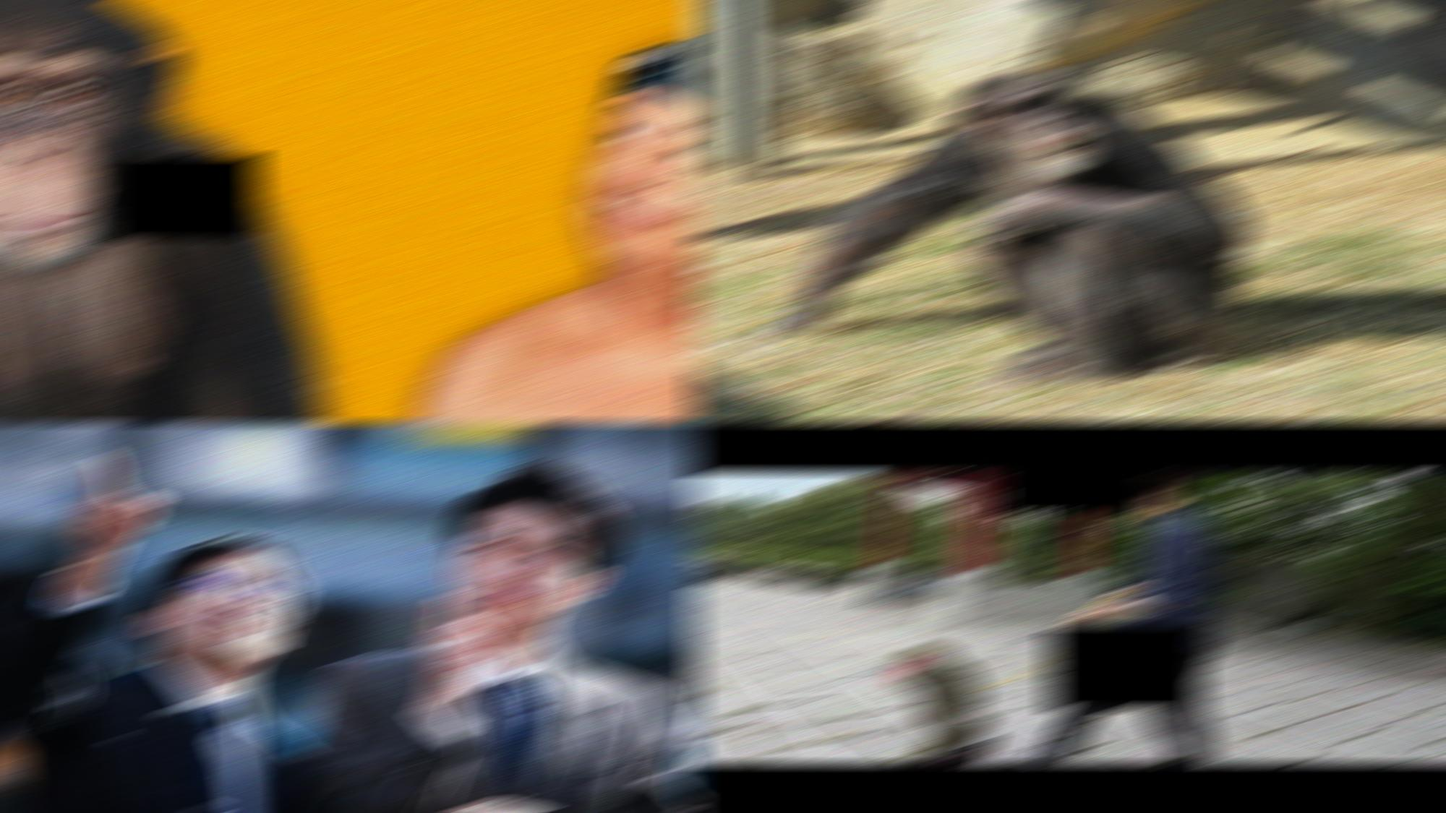Macaca fuscata: (887, 645, 1011, 764)
chimpanzee: (778, 70, 1246, 376), (0, 1, 324, 421)
human: (347, 37, 701, 421), (314, 463, 701, 811), (1, 452, 316, 811), (1007, 472, 1241, 763)
